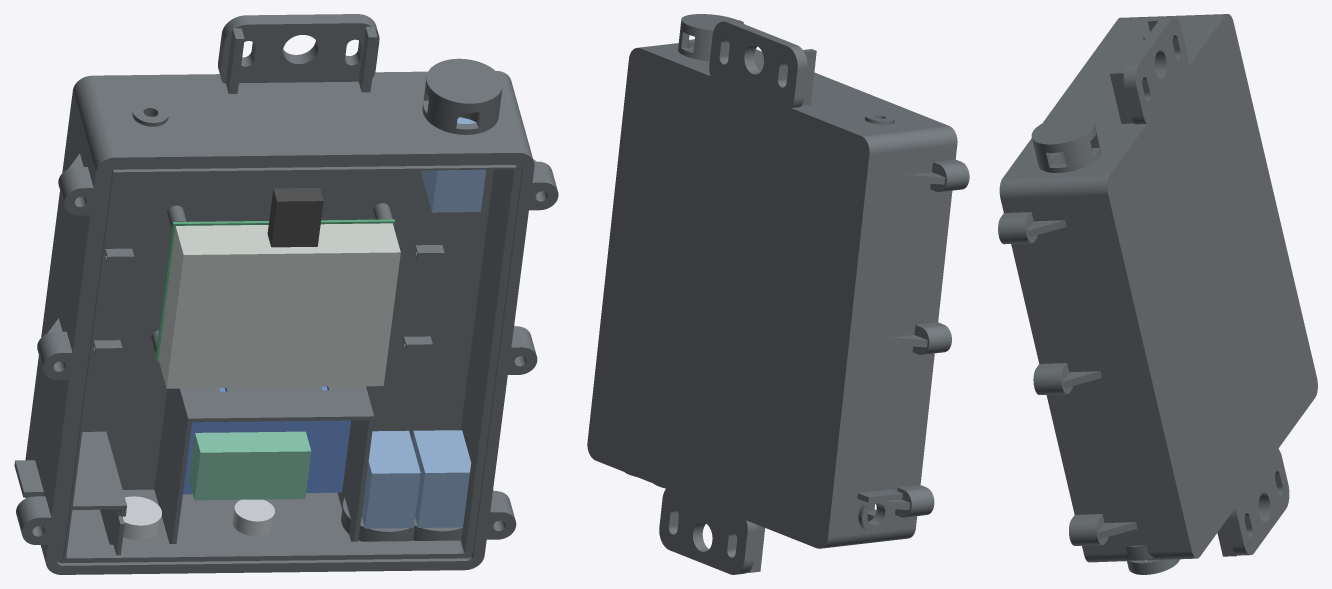
The model's file is repeater_inside.glb.
3 renders of one model, left to right at view 1: azimuth 30°, elevation 25°; view 2: azimuth 150°, elevation 25°; view 3: azimuth 270°, elevation 25°, orthographic. The views are drawn at different scales.
Visible parts, largest first — view 1: base, pcb_parts, charger_bms, mq136_h2s, mq7_co, battery_3s, xiao_usb_plug, mq4_ch4, gland_nut, vent_nut, pcb; view 2: base; view 3: base.
Part boxes in pixels (x1,y1,x2,y2): base: (14,14,558,574); pcb_parts: (158,223,400,388); charger_bms: (189,431,311,500); mq136_h2s: (412,430,471,527); mq7_co: (361,430,420,528); battery_3s: (183,386,351,494); xiao_usb_plug: (267,188,323,247); mq4_ch4: (420,117,486,212); gland_nut: (123,496,161,540); vent_nut: (232,499,274,536); pcb: (155,219,394,361); base: (587,14,969,574); base: (998,14,1317,574).
Bounding box in the file's own units: 219 × 291 × 169.
